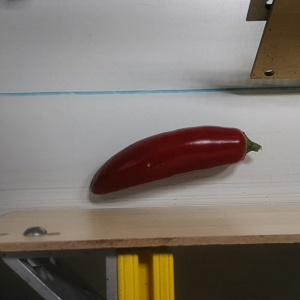Cut Point: (228, 126, 258, 163)
